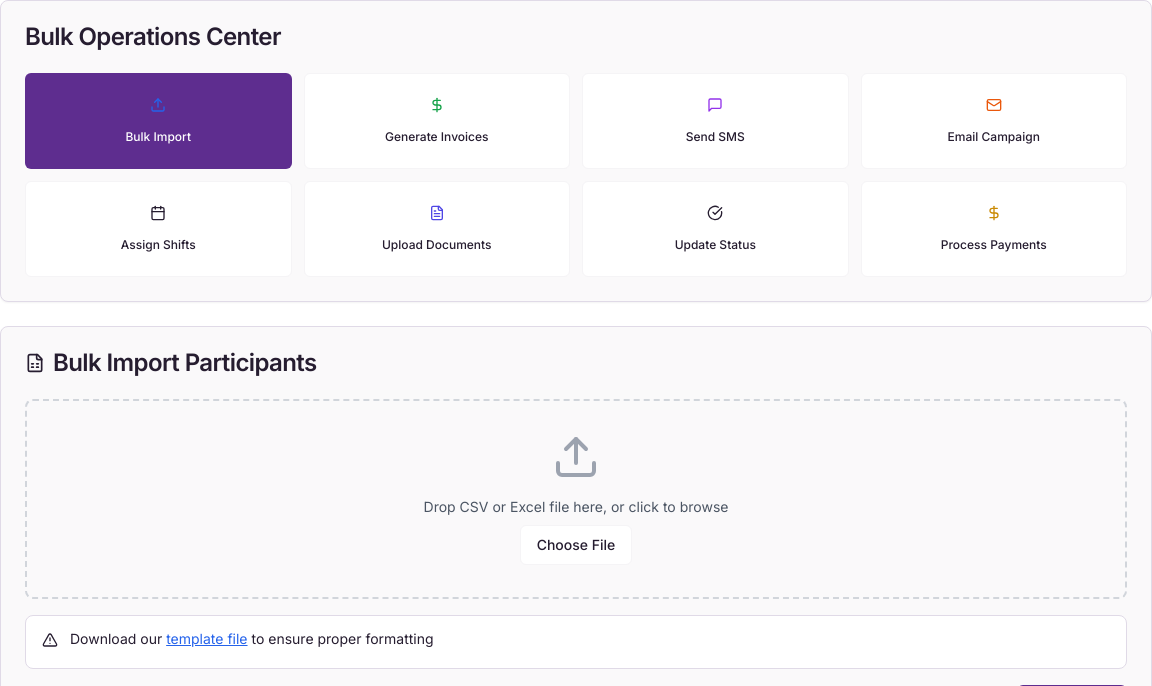
BulkOperations Component › Unit Tests › switches between operation types when buttons are clicked
The width and height of the screenshot is (1152, 686).
What coordinates should you click on to do the following:
click the button "Generate Invoices"
I would click on:
 (437, 136)
Its box is x1=304 y1=73 x2=570 y2=169.
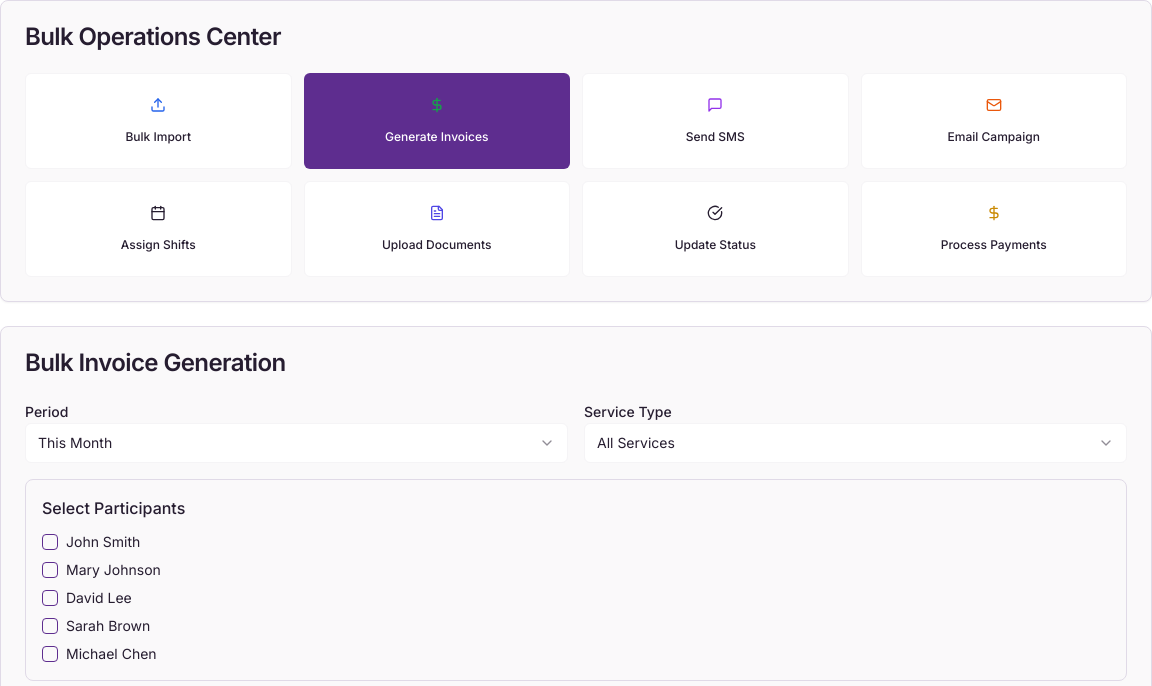
Result: the text "Bulk Invoice Generation" is shown at x1=25 y1=348 x2=286 y2=377
